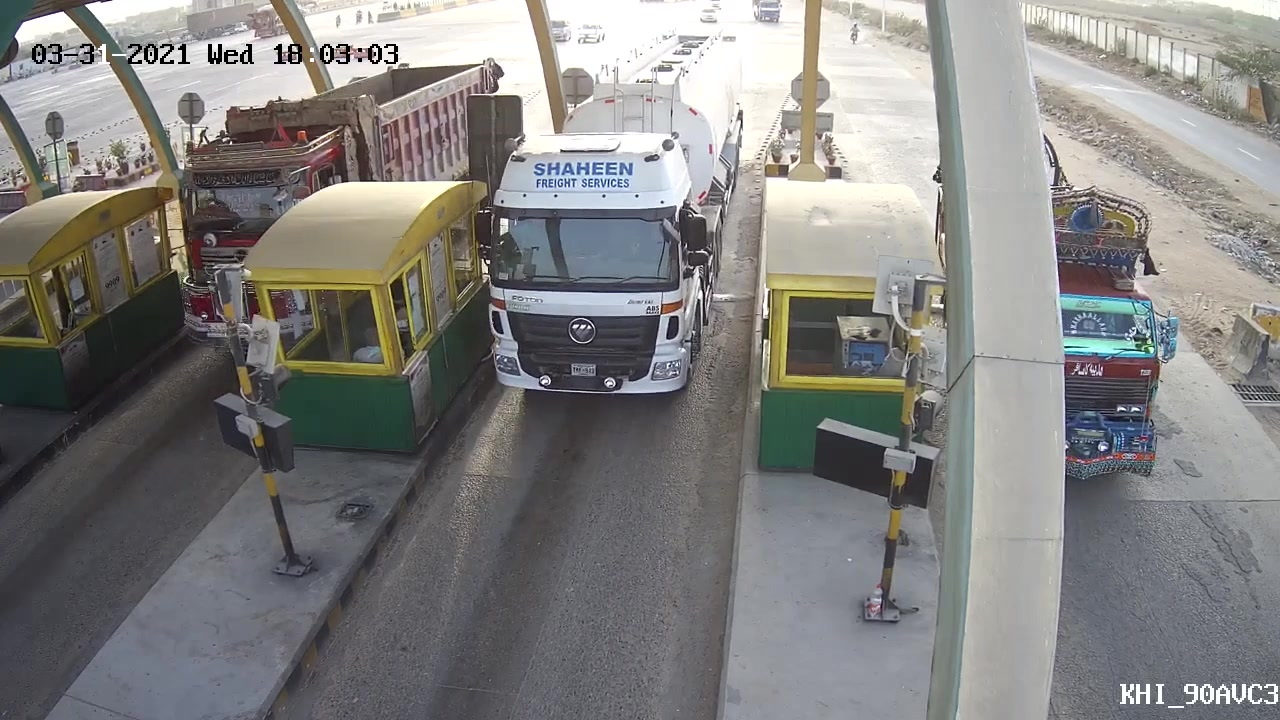F6: (472, 26, 747, 415)
